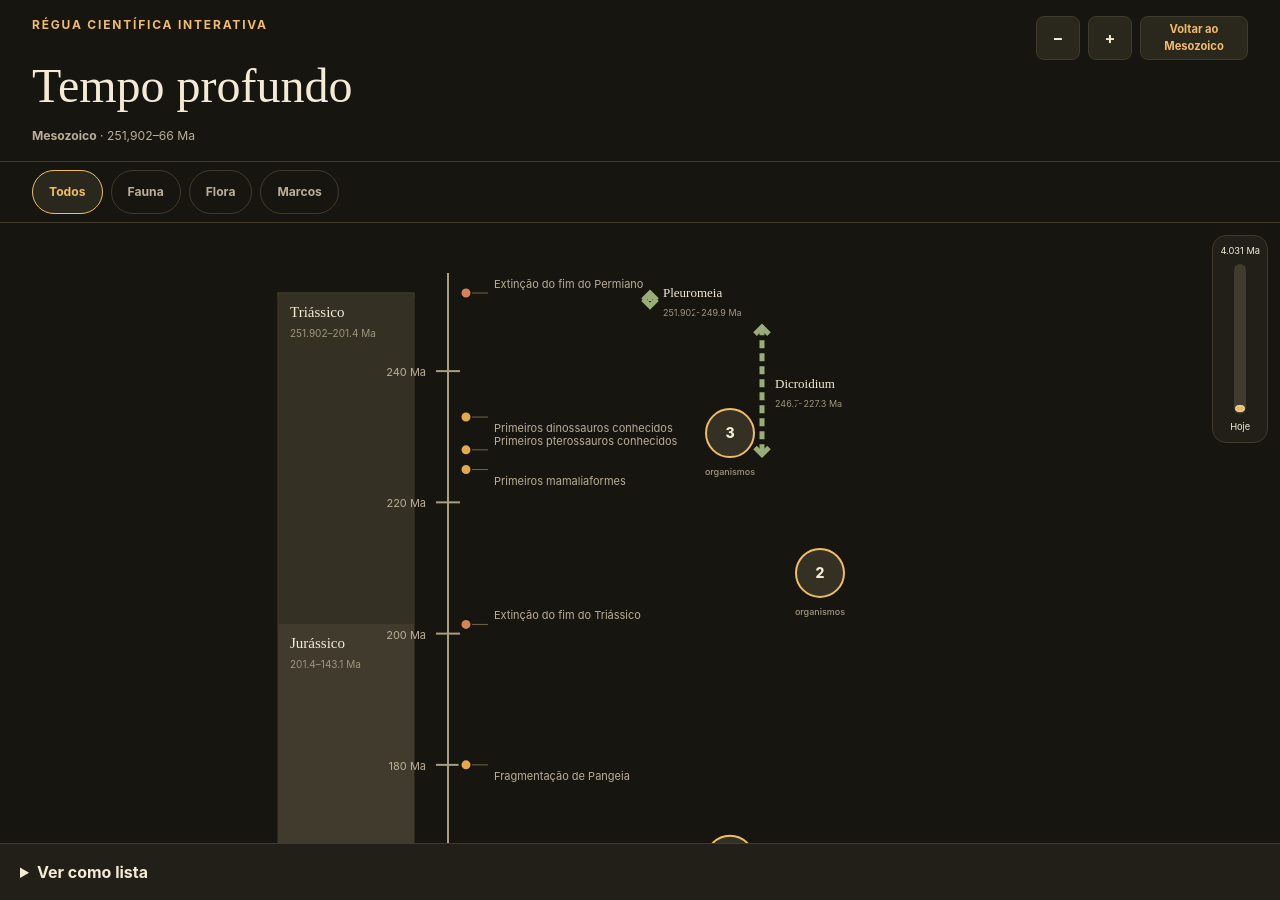
Test: Timeline › inicia no Mesozoico e permite zoom/reset por controles acessíveis
The image size is (1280, 900).
Expected: the heading "Tempo profundo" is shown, [32,50,353,122]
Expected: the text "Mesozoico" is shown, [32,128,97,143]
Click the button named "Aproximar" at (1110, 38), box [1088,16,1132,60]
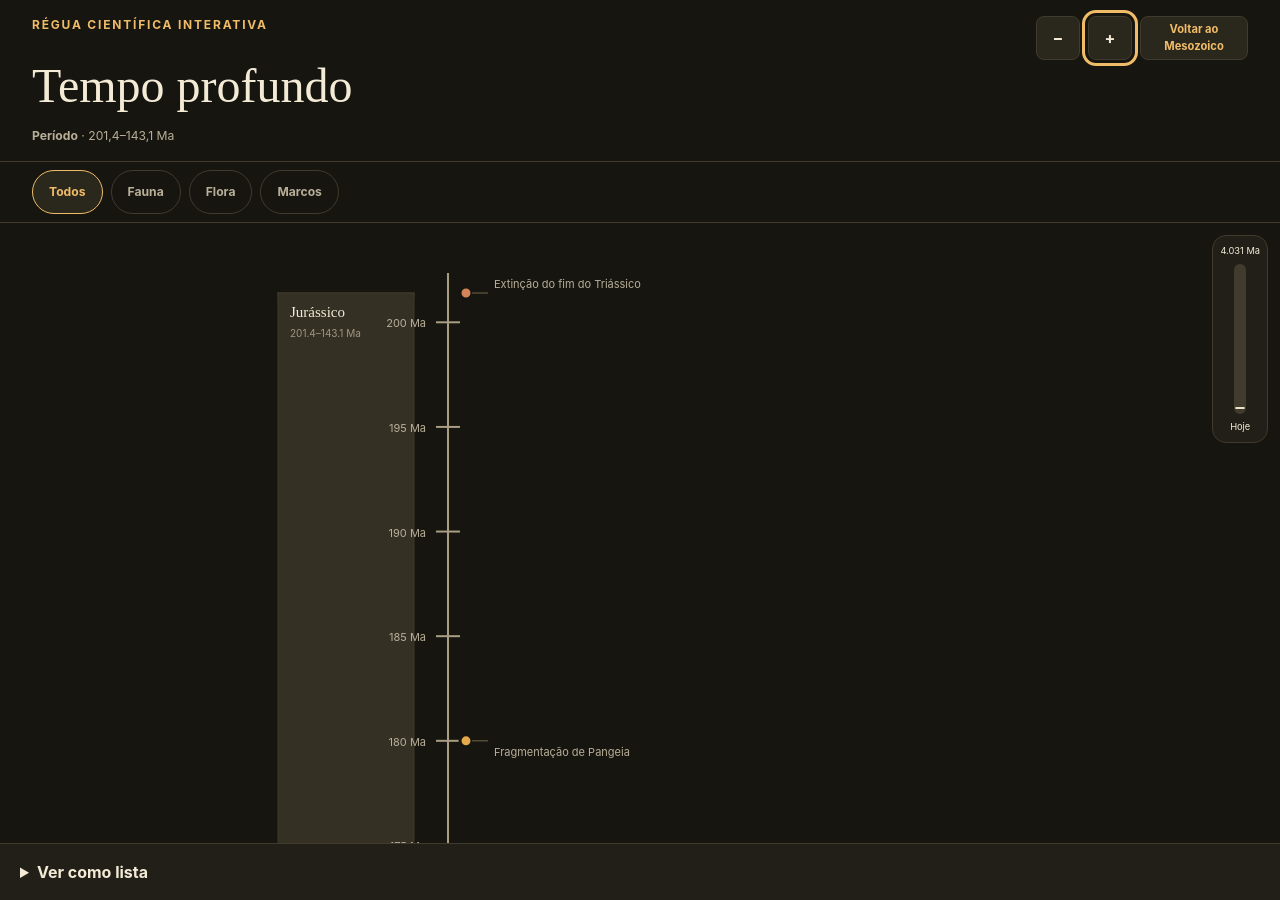
Expected: the text "Período" is shown, [32,128,78,143]
Click the button "Voltar ao Mesozoico" at (1194, 38), box [1140,16,1248,60]
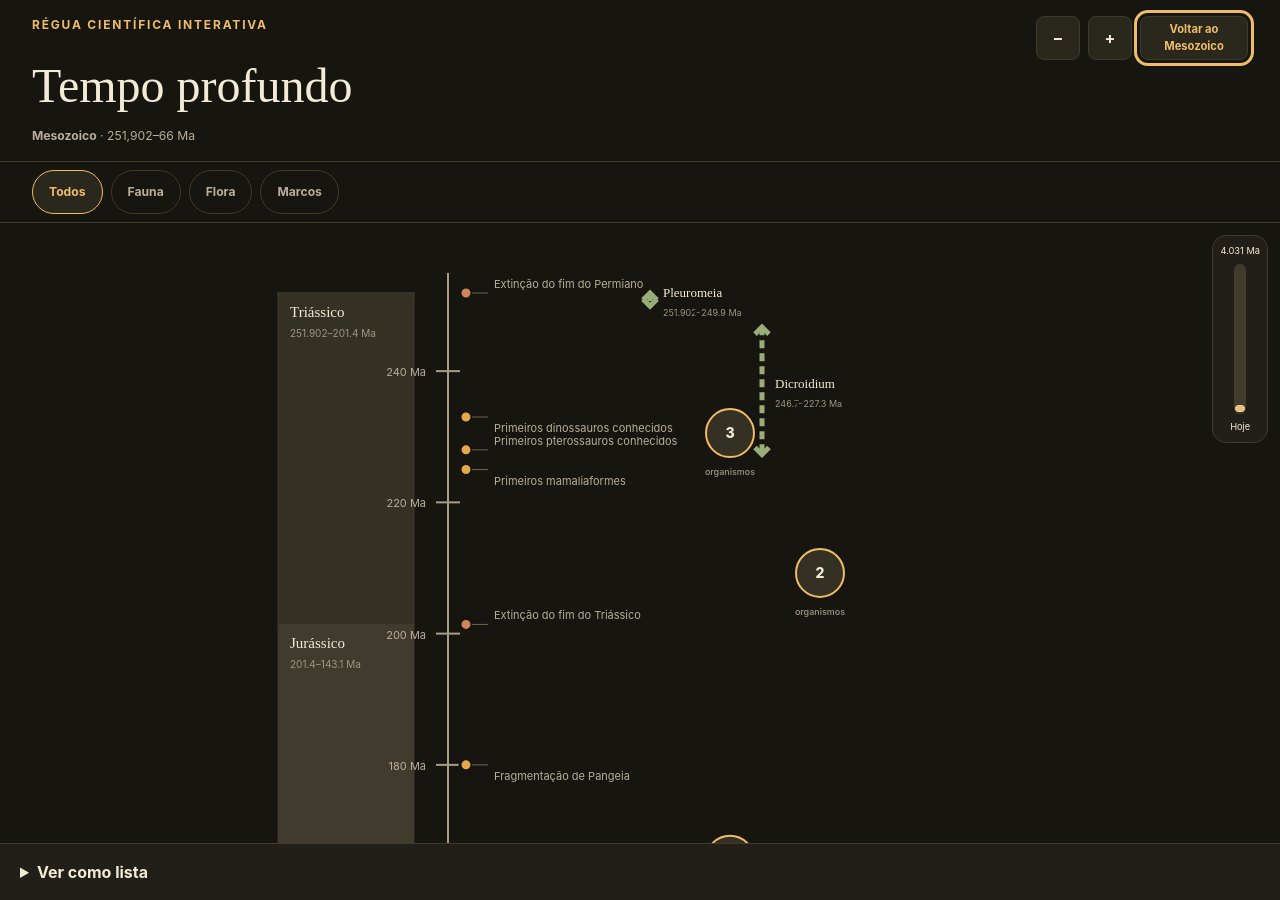
Expected: the text "Mesozoico" is shown, [32,128,97,143]
